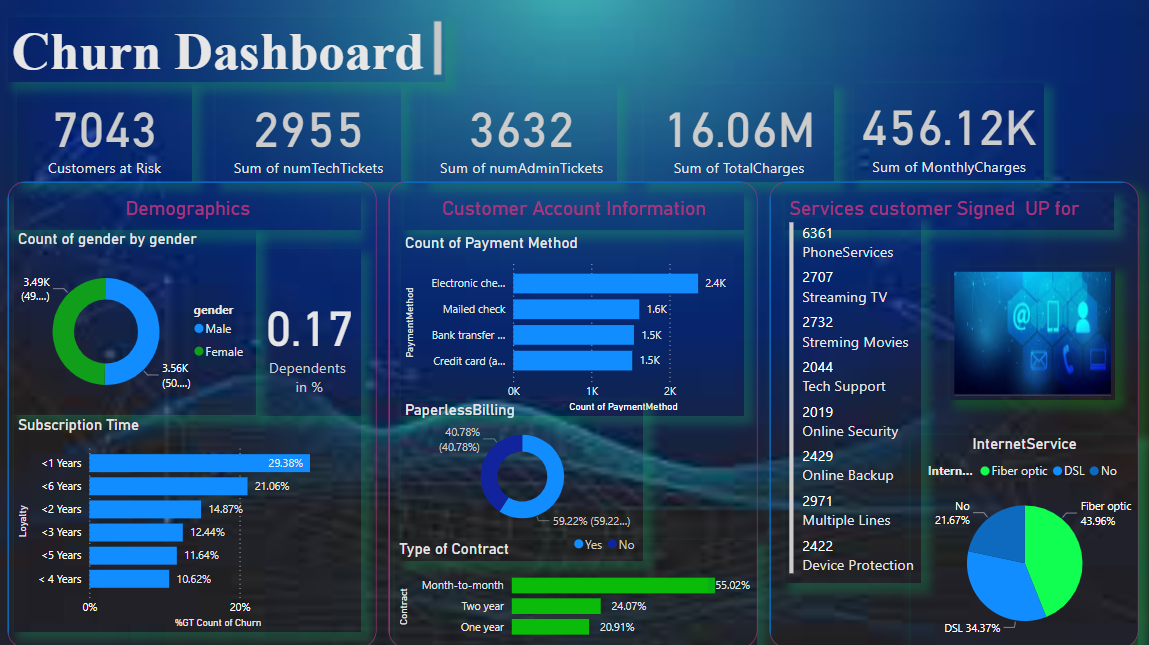

Layout of this report page (visuals, bound fields, positions):
{"tool":"powerbi","page":{"name":"Churn Prediction","canvas":[1280,720],"ordinal":1},"visuals":[{"type":"card","fields":{"Values":["CountNonNull(01 Churn-Dataset.customerID)"]},"box":[21.7,93.3,195,108.3],"z":0},{"type":"card","fields":{"Values":["Sum(01 Churn-Dataset.numTechTickets)"]},"box":[243.3,93.3,205,108.3],"z":1000},{"type":"card","fields":{"Values":["Sum(01 Churn-Dataset.numAdminTickets)"]},"box":[476.7,93.3,211.7,108.3],"z":2000},{"type":"card","fields":{"Values":["Sum(01 Churn-Dataset.TotalCharges)"]},"box":[718.3,93.3,211.7,108.3],"z":3000},{"type":"card","fields":{"Values":["Sum(01 Churn-Dataset.MonthlyCharges)"]},"box":[951.7,91.7,211.7,108.3],"z":4000},{"type":"textbox","box":[11.7,18.3,486.7,73.3],"z":5000},{"type":"shape","box":[11.7,201.7,410,518.3],"z":6000},{"type":"shape","box":[435,201.7,410,518.3],"z":7000},{"type":"shape","box":[858.3,201.7,410,518.3],"z":8000},{"type":"textbox","box":[18.3,213.3,386.7,41.7],"z":9000},{"type":"textbox","box":[875,213.3,366.7,41.7],"z":10000},{"type":"textbox","box":[451.7,213.3,378.3,41.7],"z":11000},{"type":"donutChart","fields":{"Category":["01 Churn-Dataset.gender"],"Y":["CountNonNull(01 Churn-Dataset.gender)"]},"box":[18.3,255,270,206.7],"z":12000},{"type":"clusteredBarChart","title":"Subscription Time","fields":{"Category":["01 Churn-Dataset.Loyalty"],"Y":["CountNonNull(01 Churn-Dataset.Churn)"]},"box":[18.3,461.7,386.7,240],"z":13000},{"type":"clusteredBarChart","title":"Count of Payment Method ","fields":{"Category":["01 Churn-Dataset.PaymentMethod"],"Y":["CountNonNull(01 Churn-Dataset.PaymentMethod)"]},"box":[448.3,260,381.7,201.7],"z":14000},{"type":"donutChart","title":" PaperlessBilling ","fields":{"Category":["01 Churn-Dataset.PaperlessBilling"],"Y":["CountNonNull(01 Churn-Dataset.PaperlessBilling)"]},"box":[448.3,445,270,178.3],"z":15000},{"type":"clusteredBarChart","title":"Type of Contract","fields":{"Category":["01 Churn-Dataset.Contract"],"Y":["Divide(CountNonNull(01 Churn-Dataset.Contract), ScopedEval(CountNonNull(01 Churn-Dataset.Contract), []))"]},"box":[441.7,600,403.3,120],"z":16000},{"type":"pieChart","title":"InternetService","fields":{"Category":["01 Churn-Dataset.InternetService"],"Y":["CountNonNull(01 Churn-Dataset.InternetService)"]},"box":[1015.3,483.6,253.4,235.5],"z":17000},{"type":"card","fields":{"Values":["01 Churn-Dataset.Dependents in %"]},"box":[288.3,276.7,116.7,185],"z":18000},{"type":"multiRowCard","fields":{"Values":["01 Churn-Dataset.Count of PhoneServices for Yes","01 Churn-Dataset.Count of StreamingTV for Yes","01 Churn-Dataset.Count of StremingMovies for Yes","01 Churn-Dataset.Count Of Tech for Yes","01 Churn-Dataset.Count of OnlineSequrity for Yes","01 Churn-Dataset.Count of OnlineBackup for Yes","01 Churn-Dataset.Count of MultipleLines for Yes","01 Churn-Dataset.Count of Device Protection for Yes"]},"box":[874.4,240.9,151.7,406.8],"z":18001},{"type":"image","box":[1058,296,184,148],"z":18002}]}

Visuals, with their boxes in screenshot pixels (x1, y1, x2, y2), scaled from the page's 1280x720 canvas onto the 1149x645 screenshot:
card - CountNonNull(01 Churn-Dataset.customerID): (19, 84, 195, 181)
card - Sum(01 Churn-Dataset.numTechTickets): (218, 84, 402, 181)
card - Sum(01 Churn-Dataset.numAdminTickets): (428, 84, 618, 181)
card - Sum(01 Churn-Dataset.TotalCharges): (645, 84, 835, 181)
card - Sum(01 Churn-Dataset.MonthlyCharges): (854, 82, 1044, 179)
textbox: (11, 16, 447, 82)
shape: (11, 181, 379, 644)
shape: (390, 181, 759, 644)
shape: (770, 181, 1138, 644)
textbox: (16, 191, 364, 228)
textbox: (785, 191, 1115, 228)
textbox: (405, 191, 745, 228)
donutChart - 01 Churn-Dataset.gender x CountNonNull(01 Churn-Dataset.gender): (16, 228, 259, 414)
"Subscription Time" clusteredBarChart: (16, 414, 364, 629)
"Count of Payment Method " clusteredBarChart: (402, 233, 745, 414)
" PaperlessBilling " donutChart: (402, 399, 645, 558)
"Type of Contract" clusteredBarChart: (396, 538, 759, 644)
"InternetService" pieChart: (911, 433, 1139, 644)
card - 01 Churn-Dataset.Dependents in %: (259, 248, 364, 414)
multiRowCard - 01 Churn-Dataset.Count of PhoneServices for Yes x 01 Churn-Dataset.Count of StreamingTV for Yes: (785, 216, 921, 580)
image: (950, 265, 1115, 398)
